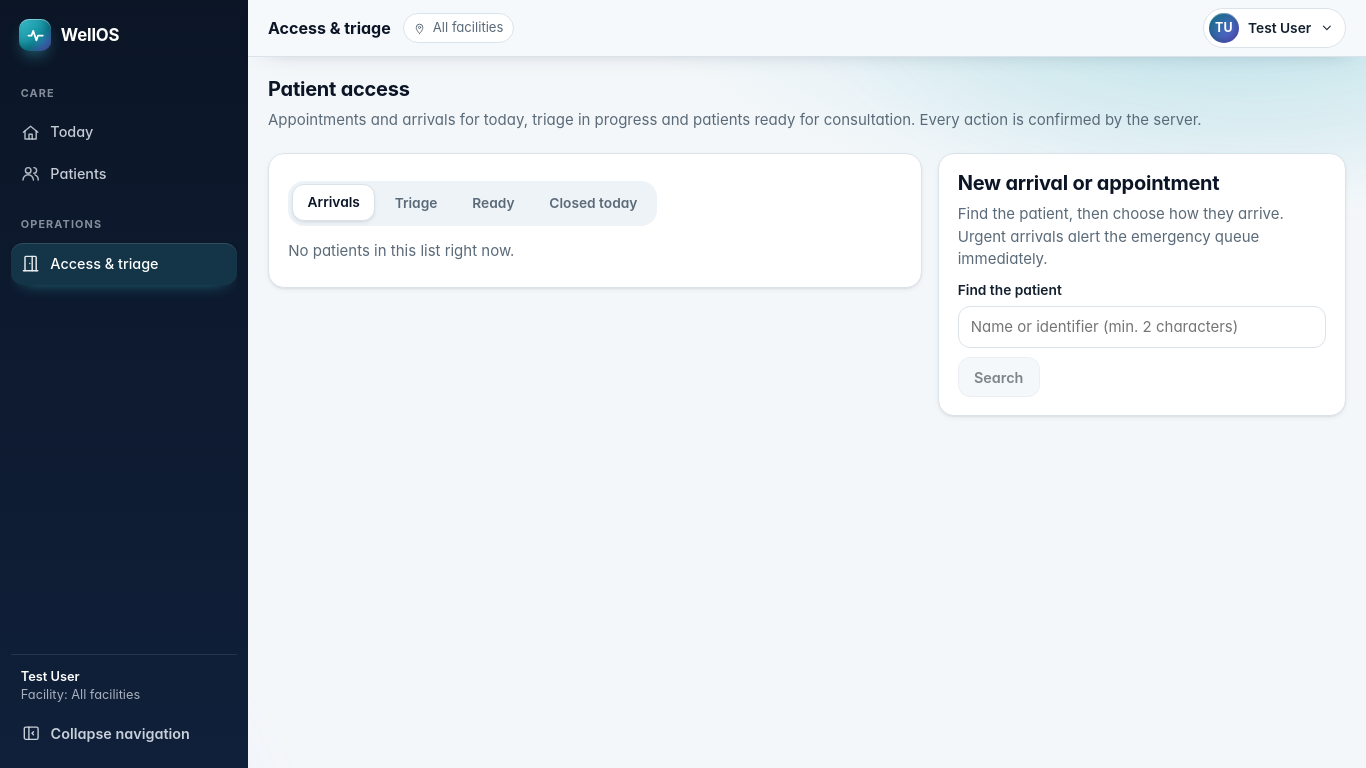
Test: patient access board › registers a walk-in from patient search without exposing identifiers
The width and height of the screenshot is (1366, 768).
Expected: the heading "New arrival or appointment" is shown, 958,171 -> 1219,195
In the search field labelled "Find the patient": (1142, 327) 958,306 -> 1326,348, type "Marta"
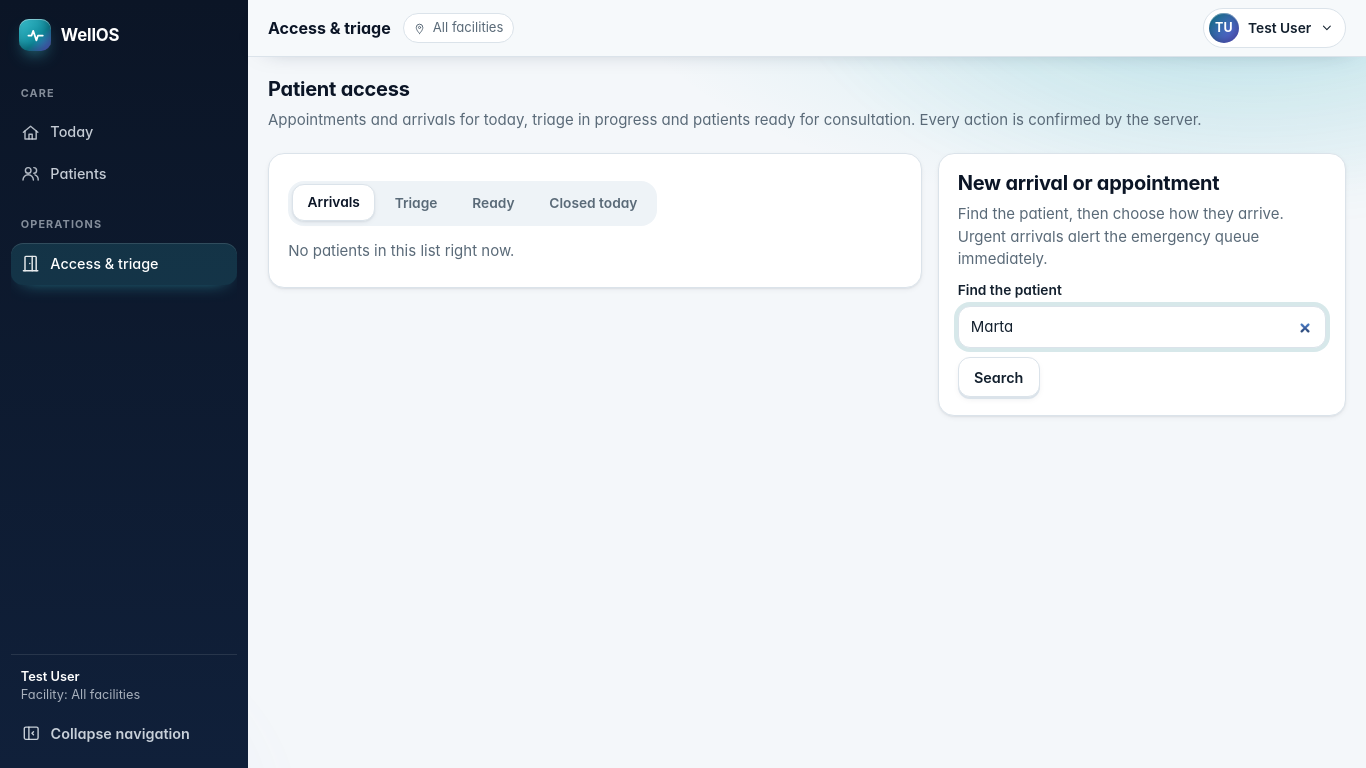
Click the button "Search": (999, 378) 958,358 -> 1040,398
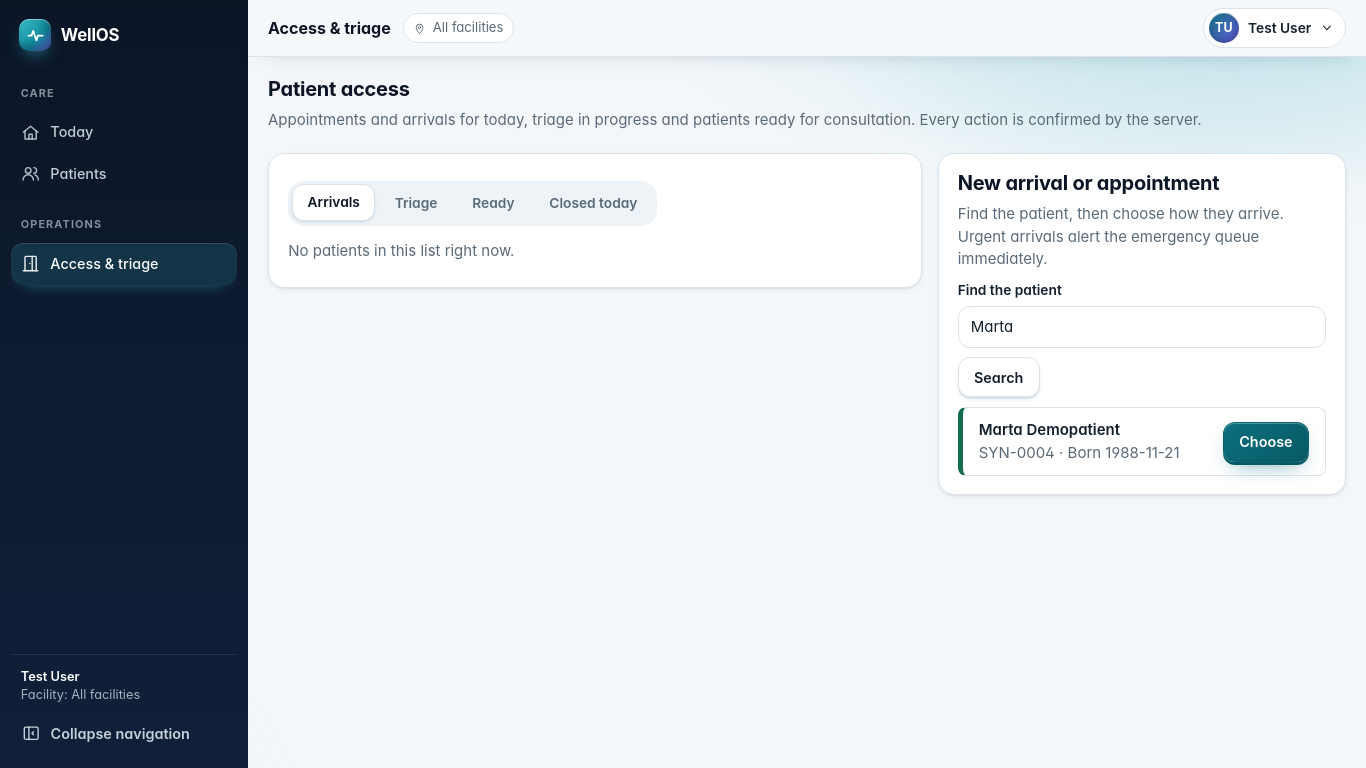
Expected: the text "Marta Demopatient" is shown, 979,420 -> 1120,439
Click the button "Choose": (1266, 442) 1223,422 -> 1309,462
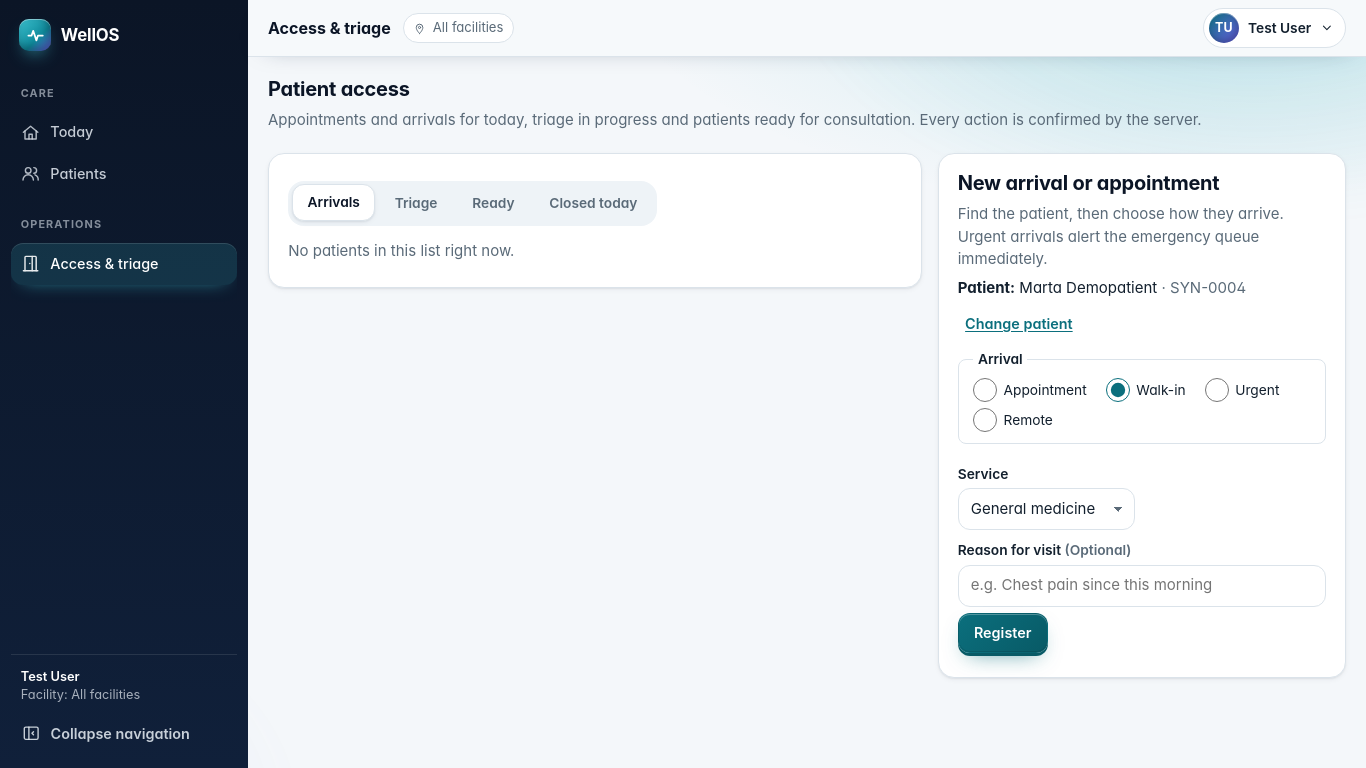
Expected: the button "Change patient" is shown, 958,308 -> 1080,340
Click the radio button labelled "Walk-in": (1118, 390) 1106,378 -> 1130,402
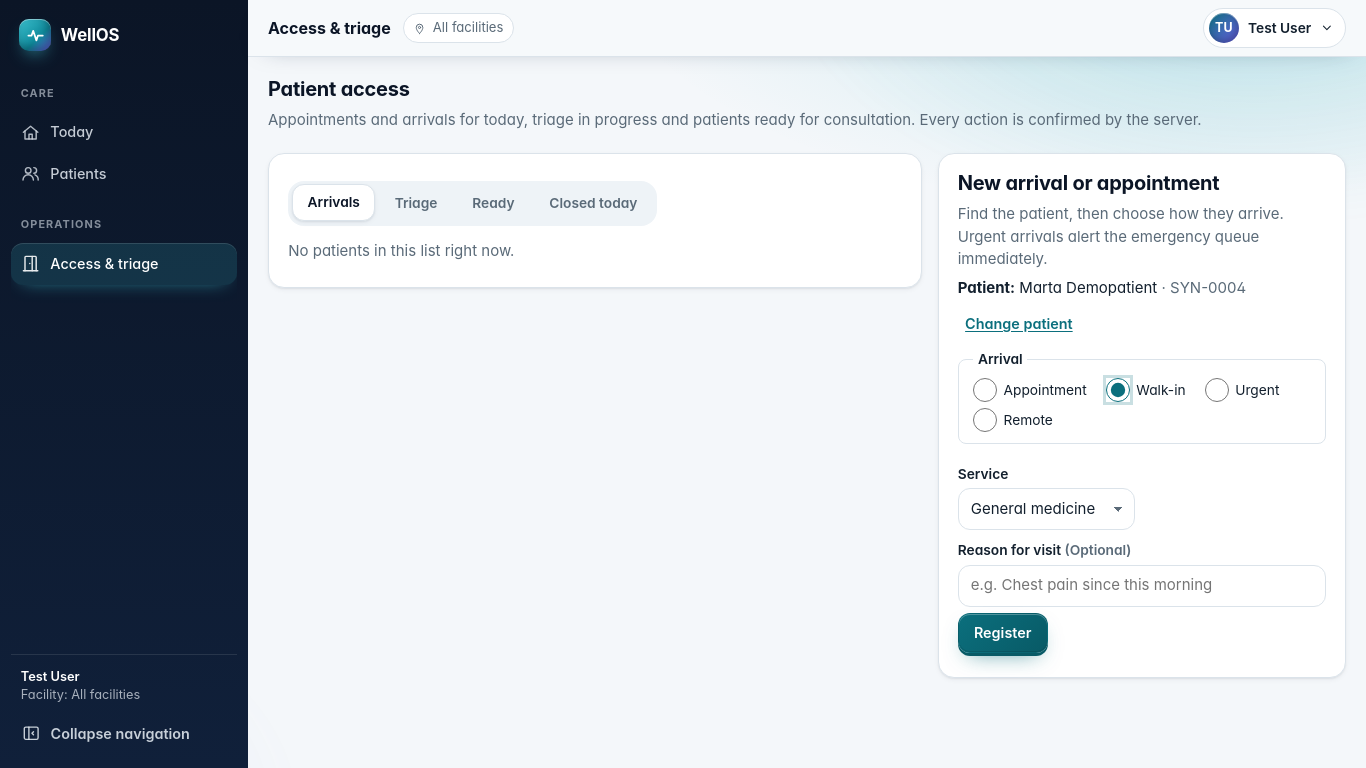
In the field labelled "Reason for visit (Optional)": (1142, 586) 958,565 -> 1326,607, type "Cough"
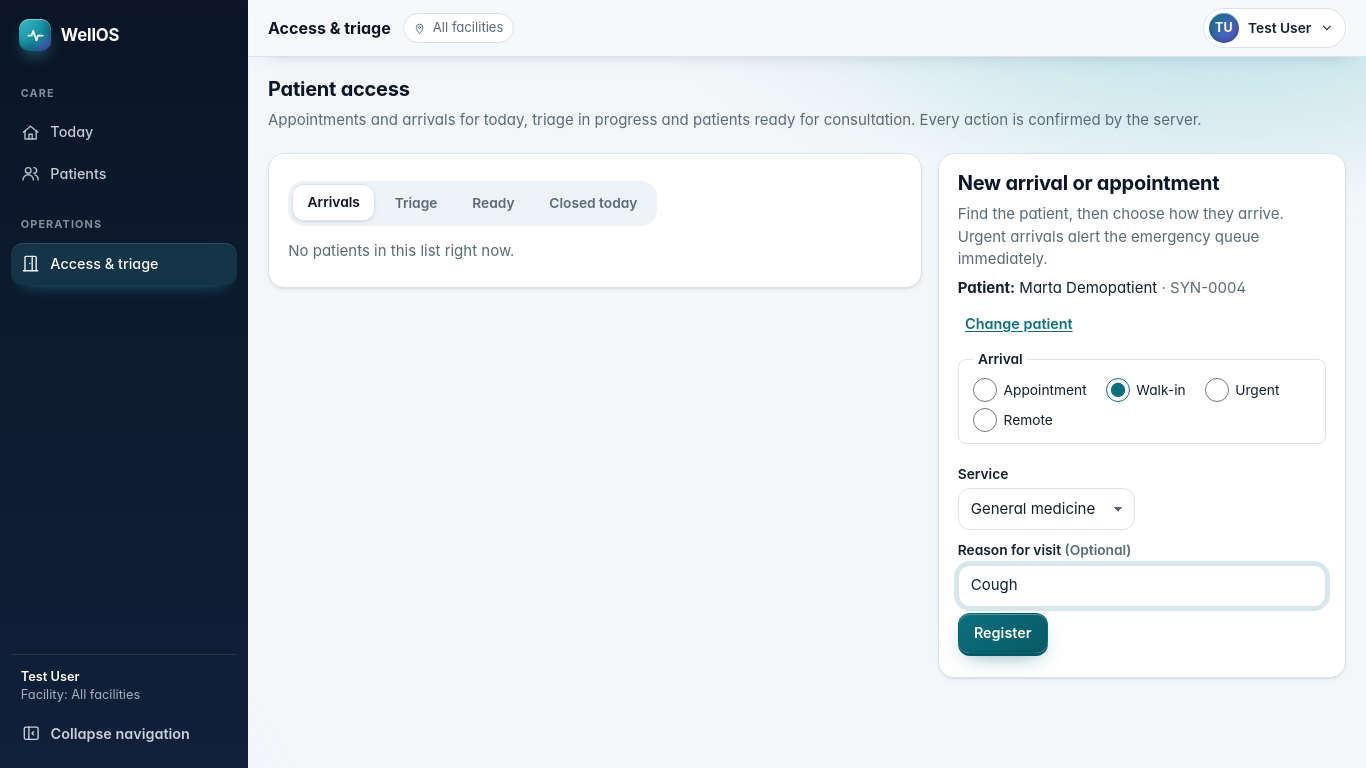
Click the button "Register": (1003, 633) 958,613 -> 1048,653
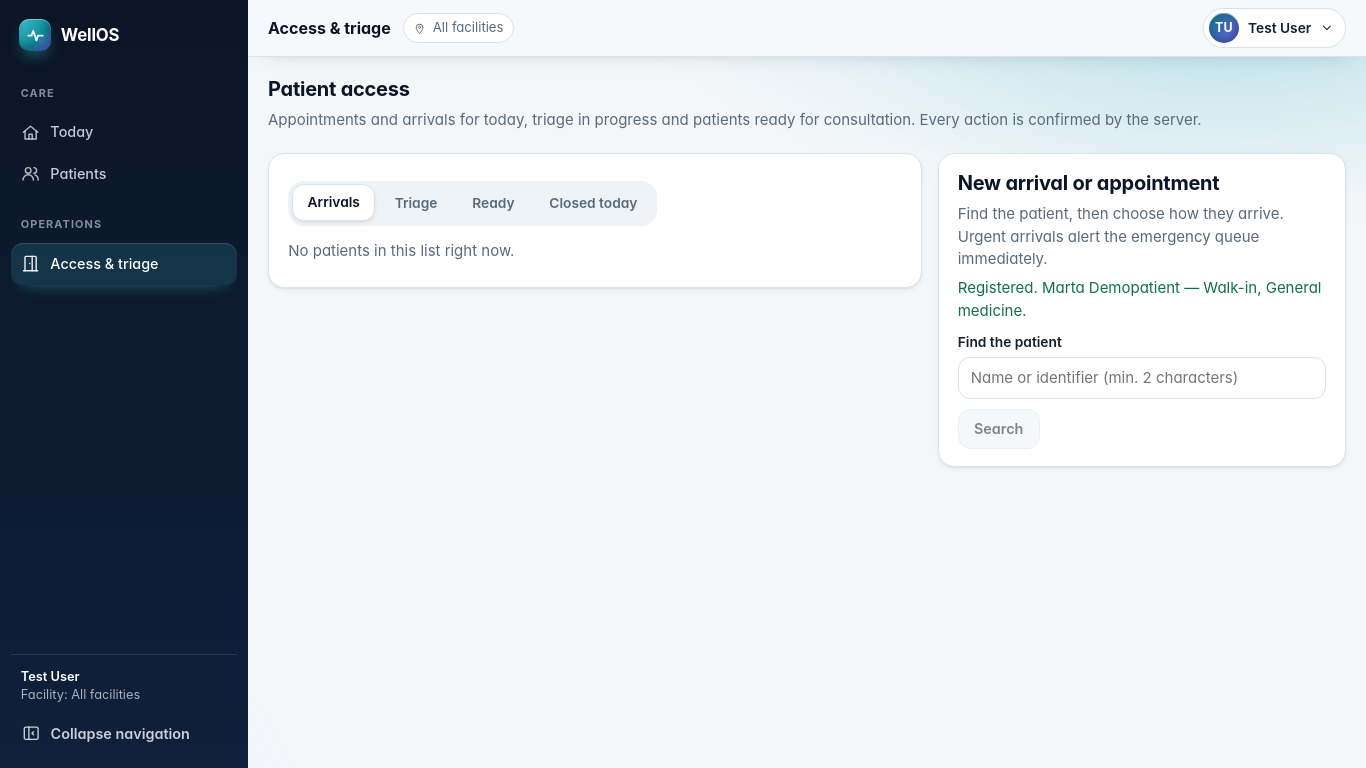
Expected: the text "Registered. Marta Demopatient — Walk-in, General medicine." is shown, 958,277 -> 1326,322
